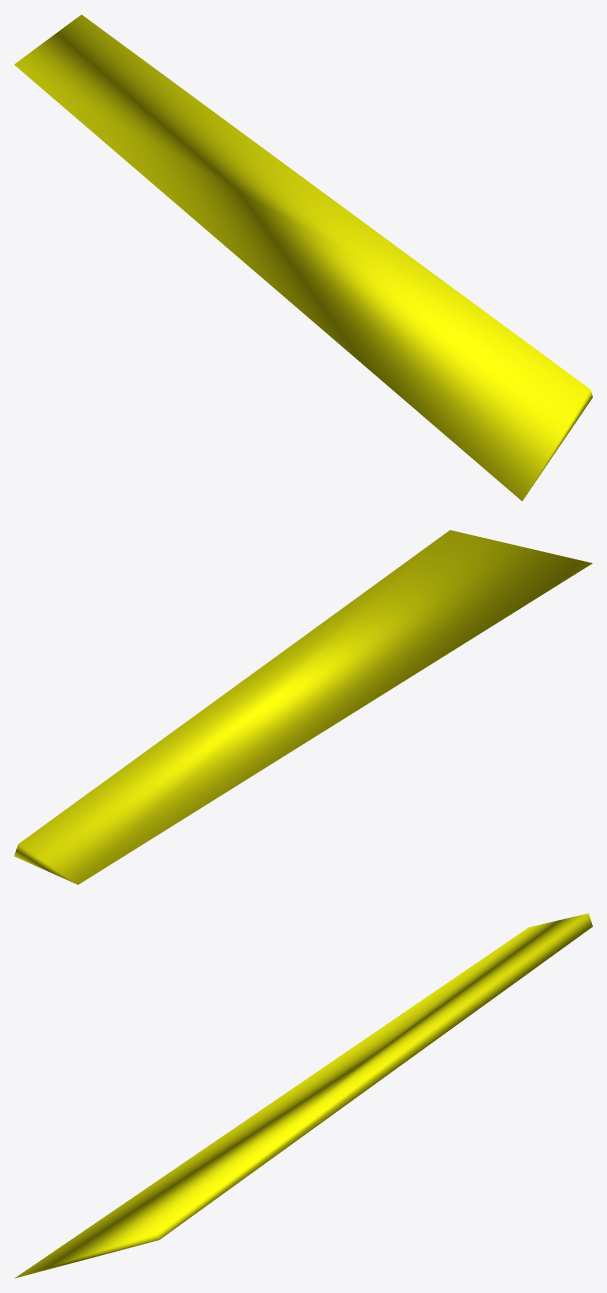
The model's file is blade_RModel.glb.
3 renders of one model, top to bottom at view 1: azimuth 30°, elevation 25°; view 2: azimuth 150°, elevation 25°; view 3: azimuth 330°, elevation 25°, orthographic. The views are drawn at different scales.
Parts seen in each view (by area): view 1: blade_R; view 2: blade_R; view 3: blade_R.
Part boxes in pixels (<box>): blade_R: <box>14,14,592,501</box>; blade_R: <box>14,530,592,884</box>; blade_R: <box>14,913,592,1278</box>.
Size of the model in its own units: 0.1902 by 0.074 by 1.51.
1 material, 1 textured.
